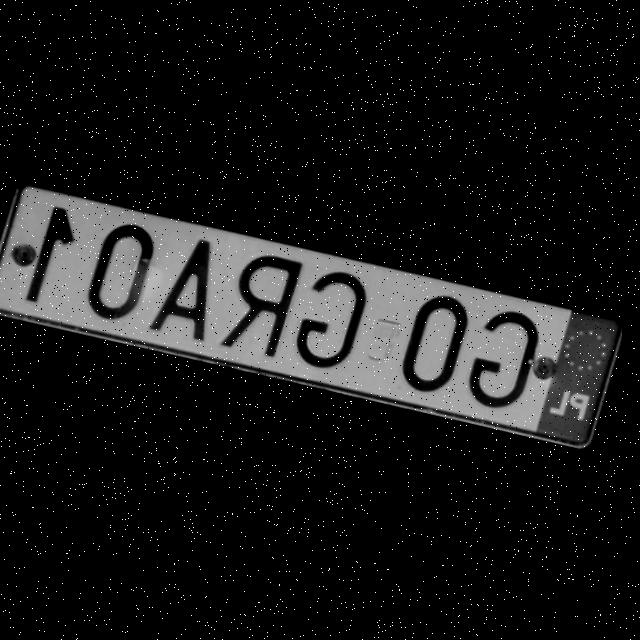license-plates: (0, 177, 623, 448)
